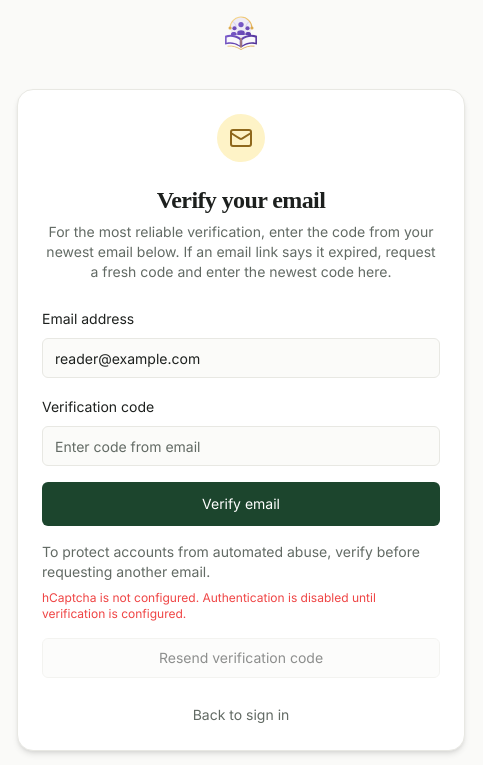
Test: ConfirmEmail verification flow › rejects email addresses containing internal whitespace before verification
Replace the text in the field labelled "Email address" with "reader @example.com". click: coordinates (241, 358)
box: [42,338,440,378]
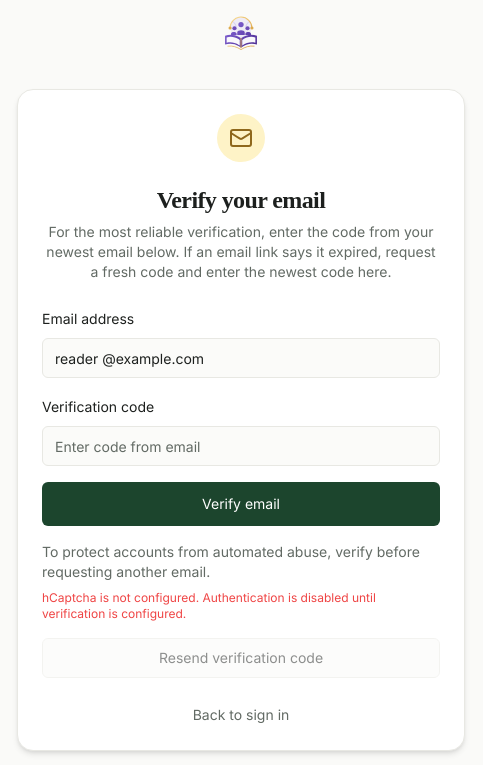
Type "123456" into the field labelled "Verification code". click: coordinates (241, 446)
box: [42,426,440,466]
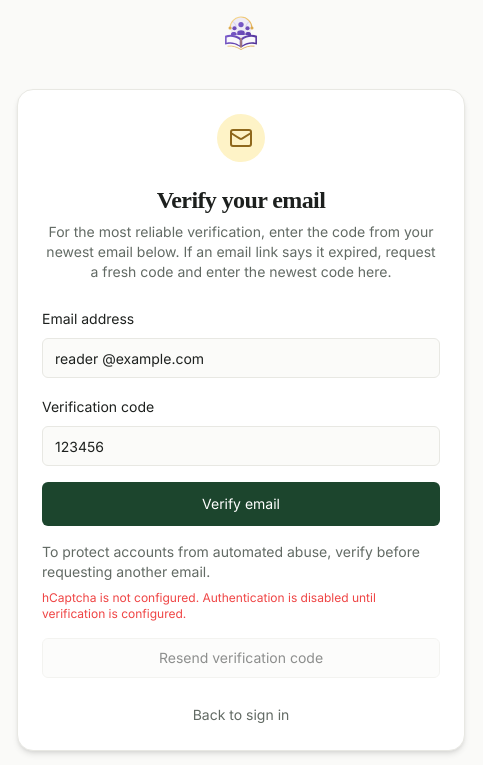
Submit the form "Email address Verification code Verify email", box [42,306,440,526]
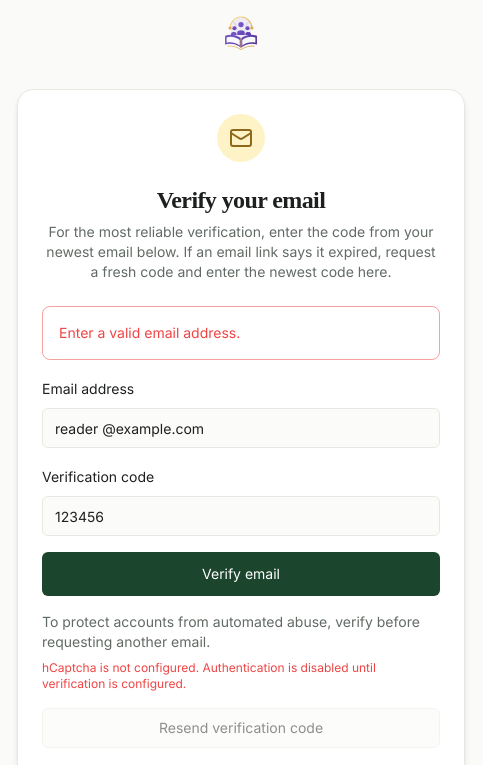
Now the text "Enter a valid email address." is shown, box [59,324,240,341]
